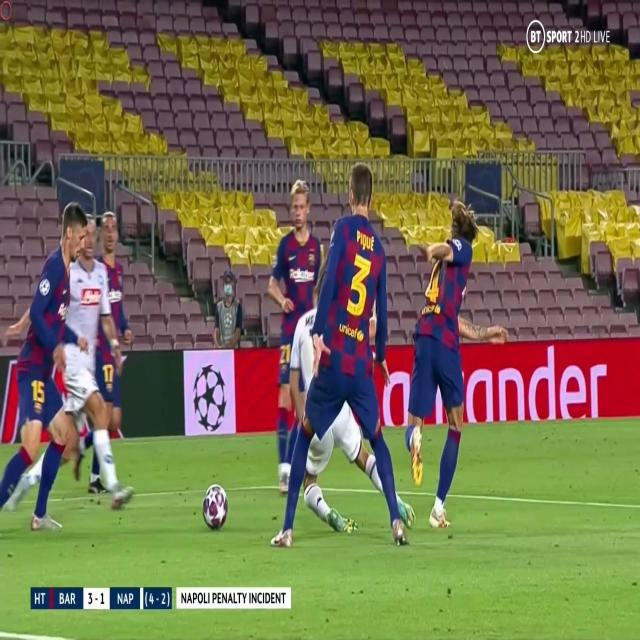ball: (199, 476, 232, 534)
player: (266, 164, 419, 561), (389, 187, 493, 528), (1, 202, 84, 534), (264, 175, 332, 470), (94, 206, 138, 516), (62, 213, 109, 417)
